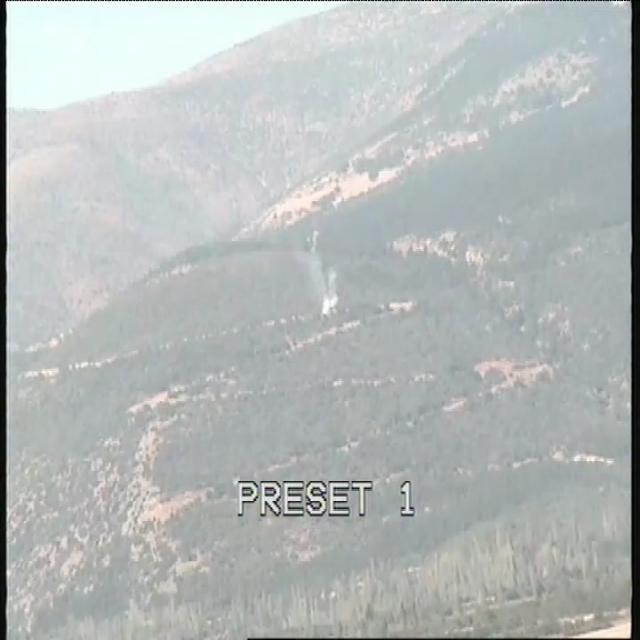smoke: (310, 258, 341, 324)
